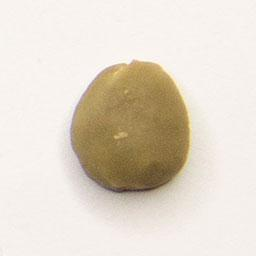premium: (67, 56, 193, 196)
